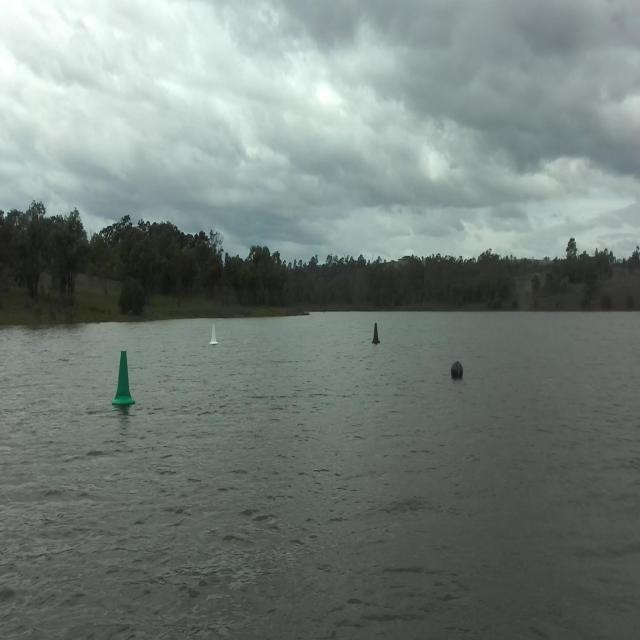Black_Buoy: (443, 357, 470, 385), (372, 318, 386, 342)
Green_Buoy: (116, 350, 142, 418)
White_Buoy: (205, 320, 225, 347)
